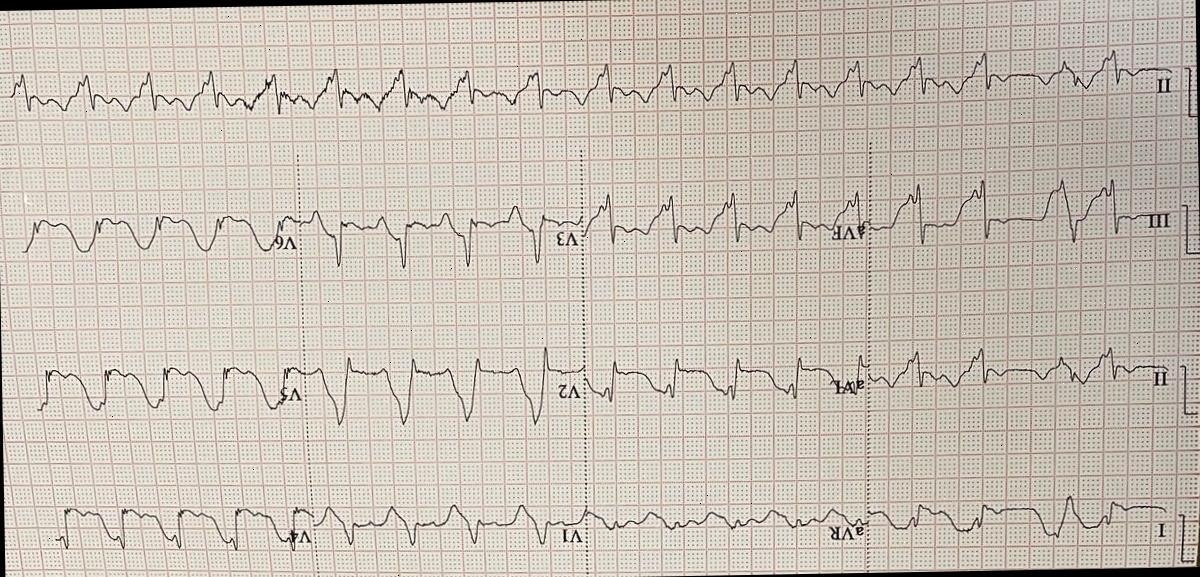Lead_I: (870, 467, 1178, 559)
Lead_II: (867, 334, 1174, 412)
Lead_III: (870, 162, 1180, 262)
Lead_II_ext: (5, 27, 1178, 139)
Lead_V1: (314, 464, 588, 570)
Lead_V2: (306, 330, 588, 445)
Lead_V3: (302, 190, 586, 285)
Lead_V4: (44, 465, 319, 577)
Lead_V5: (27, 343, 310, 442)
Lead_V6: (13, 193, 302, 287)
Lead_aVF: (580, 174, 871, 266)
Lead_aVL: (584, 325, 872, 427)
Lead_aVR: (585, 470, 870, 564)
